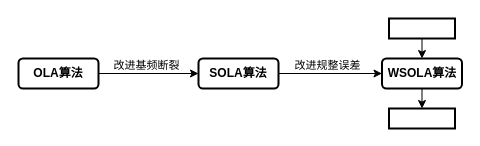
This 480x146 diagram has some shape labels left out. Here are the shapes that lost their labels. From the top down, the centre of each, then its label:
At (x=422, y=28): "Input".
At (x=422, y=118): "Output".
